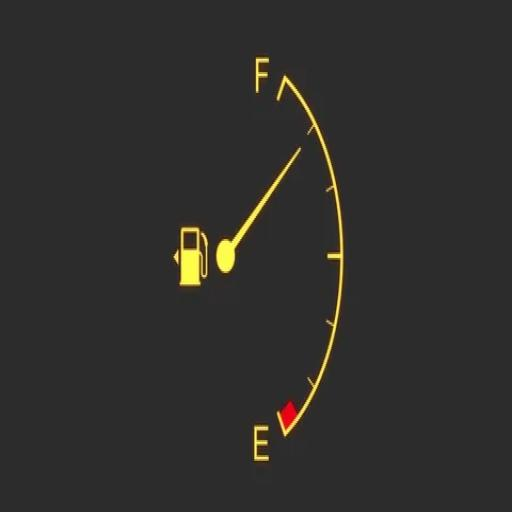empty: (250, 422, 270, 461)
fuel_icon: (174, 224, 208, 288)
full: (252, 54, 268, 90)
guage_area: (166, 13, 356, 478)
needle_center: (214, 232, 238, 276)
needle_tip: (292, 144, 305, 160)
